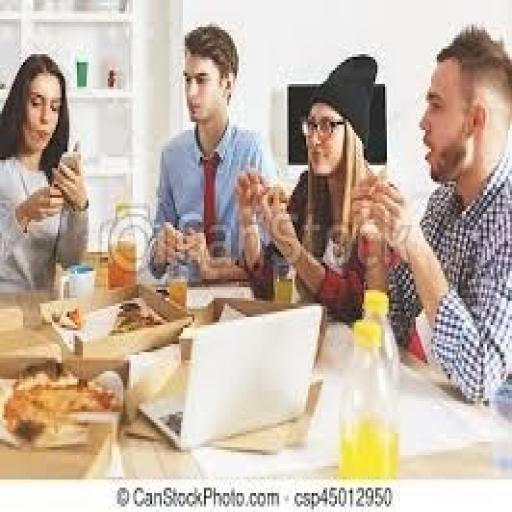eating: (347, 22, 510, 406), (233, 52, 394, 325), (146, 22, 279, 287), (0, 51, 90, 295)
